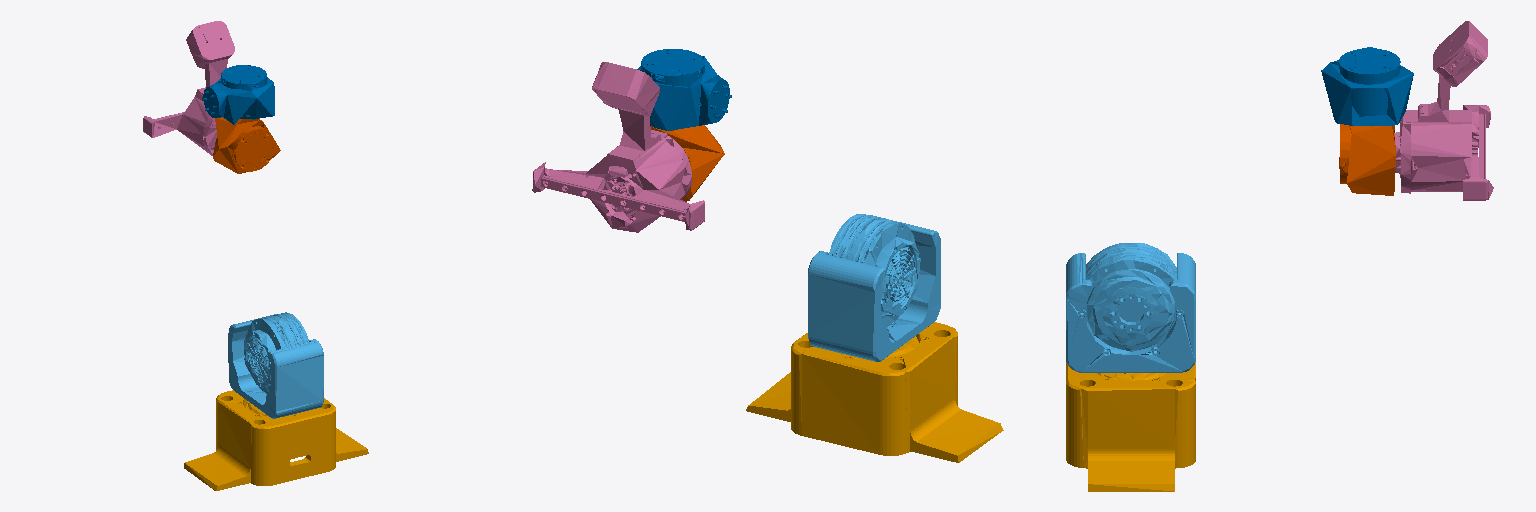
URDF robot description (s1_left):
<?xml version='1.0' encoding='utf-8'?>
<robot name="s1_left">
  <material name="pla_cf_black">
    <color rgba="0.08 0.083 0.09 1" />
  </material>
  <material name="base_graphite">
    <color rgba="0.12 0.13 0.142 1" />
  </material>
  <material name="link1_cool_graphite">
    <color rgba="0.17 0.19 0.215 1" />
  </material>
  <material name="link2_blue_graphite">
    <color rgba="0.125 0.165 0.2 1" />
  </material>
  <material name="link3_warm_graphite">
    <color rgba="0.2 0.17 0.125 1" />
  </material>
  <material name="link4_green_graphite">
    <color rgba="0.145 0.19 0.13 1" />
  </material>
  <material name="link5_violet_graphite">
    <color rgba="0.185 0.145 0.205 1" />
  </material>
  <material name="gripper_graphite">
    <color rgba="0.15 0.155 0.17 1" />
  </material>
  <material name="finger_carrier_graphite">
    <color rgba="0.12 0.13 0.145 1" />
  </material>
  <material name="motor_dark_gray">
    <color rgba="0.285 0.29 0.305 1" />
  </material>
  <material name="black_oxide">
    <color rgba="0.045 0.045 0.05 1" />
  </material>
  <material name="silver_metal">
    <color rgba="0.83 0.83 0.815 1" />
  </material>
  <material name="camera_black">
    <color rgba="0.07 0.075 0.085 1" />
  </material>
  <material name="rubber_black">
    <color rgba="0.055 0.055 0.06 1" />
  </material>
  <material name="soft_finger_orange">
    <color rgba="1 0.33 0.02 1" />
  </material>
  <link name="base_link">
    <inertial>
      <origin xyz="0 0 -0.00276303415" rpy="0 0 0" />
      <mass value="1.29583519" />
      <inertia ixx="0.0017107724" ixy="0" ixz="0" iyy="0.00274261726" iyz="0" izz="0.00340175483" />
    </inertial>
    <visual>
      <origin xyz="0 0 0" rpy="0 0 0" />
      <geometry>
        <mesh filename="../meshes/visual/base_link.obj" scale="1 -1 1" />
      </geometry>
    </visual>
    <collision>
      <origin xyz="0 0 -0.01" rpy="0 0 0" />
      <geometry>
        <box size="0.22 0.12 0.0817" />
      </geometry>
    </collision>
  </link>
  <link name="link1">
    <inertial>
      <origin xyz="0.00327466065 3.54095634e-05 0.0909114977" rpy="0 0 0" />
      <mass value="1.12836581" />
      <inertia ixx="0.00195177555" ixy="-9.87899467e-07" ixz="-1.26151138e-05" iyy="0.0013617154" iyz="1.39972709e-06" izz="0.0013391883" />
    </inertial>
    <visual>
      <origin xyz="0 0 0" rpy="0 0 0" />
      <geometry>
        <mesh filename="../meshes/visual/link1.obj" scale="1 -1 1" />
      </geometry>
    </visual>
    <collision>
      <origin xyz="0 0 0.0841" rpy="0 0 0" />
      <geometry>
        <box size="0.07 0.12 0.1195" />
      </geometry>
    </collision>
  </link>
  <link name="link2">
    <inertial>
      <origin xyz="0.0438748016 2.88223248e-05 0.171998187" rpy="0 0 0" />
      <mass value="0.914321365" />
      <inertia ixx="0.00890792612" ixy="-1.31110743e-07" ixz="0.000193746912" iyy="0.00872933125" iyz="1.35111725e-06" izz="0.000568555708" />
    </inertial>
    <visual>
      <origin xyz="0 0 0" rpy="0 0 0" />
      <geometry>
        <mesh filename="../meshes/visual/link2.obj" scale="1 -1 1" />
      </geometry>
    </visual>
    <collision>
      <origin xyz="0.041475 0 0.125" rpy="0 0 0" />
      <geometry>
        <box size="0.06075 0.08 0.33" />
      </geometry>
    </collision>
  </link>
  <link name="link3">
    <inertial>
      <origin xyz="-0.0417290979 0.156009659 3.38134269e-05" rpy="0 0 0" />
      <mass value="0.839316672" />
      <inertia ixx="0.00633206114" ixy="-0.000145532134" ixz="2.13444502e-07" iyy="0.000531686993" iyz="2.05633337e-06" izz="0.00618267806" />
    </inertial>
    <visual>
      <origin xyz="0 0 0" rpy="0 0 0" />
      <geometry>
        <mesh filename="../meshes/visual/link3.obj" scale="1 -1 1" />
      </geometry>
    </visual>
    <collision>
      <origin xyz="-0.039875 0.10985 0" rpy="0 0 0" />
      <geometry>
        <box size="0.06075 0.2997 0.08" />
      </geometry>
    </collision>
  </link>
  <link name="link4">
    <inertial>
      <origin xyz="0.0732396578 -2.37324905e-07 0.0039188933" rpy="0 0 0" />
      <mass value="0.368651315" />
      <inertia ixx="0.000172235544" ixy="-8.72272023e-11" ixz="-2.56704281e-06" iyy="0.000195507711" iyz="1.62566292e-09" izz="0.000230267156" />
    </inertial>
    <visual>
      <origin xyz="0 0 0" rpy="0 0 0" />
      <geometry>
        <mesh filename="../meshes/visual/link4.obj" scale="1 -1 1" />
      </geometry>
    </visual>
    <collision>
      <origin xyz="0.06565 0 0.0022" rpy="0 0 0" />
      <geometry>
        <box size="0.0852 0.066 0.0509" />
      </geometry>
    </collision>
  </link>
  <link name="link5">
    <inertial>
      <origin xyz="2.37324897e-07 -0.00400027101 -0.0681658426" rpy="0 0 0" />
      <mass value="0.368651315" />
      <inertia ixx="0.00019584039" ixy="1.62729219e-09" ixz="4.23583008e-10" iyy="0.00023051686" iyz="-3.83217167e-06" izz="0.000172318521" />
    </inertial>
    <visual>
      <origin xyz="0 0 0" rpy="0 0 0" />
      <geometry>
        <mesh filename="../meshes/visual/link5.obj" scale="1 -1 1" />
      </geometry>
    </visual>
    <collision>
      <origin xyz="0 -0.00225 -0.0604" rpy="0 0 0" />
      <geometry>
        <box size="0.066 0.051 0.0852" />
      </geometry>
    </collision>
  </link>
  <link name="gripper_base_link">
    <inertial>
      <origin xyz="7.05002409e-05 0.073624413 0.0133070668" rpy="0 0 0" />
      <mass value="0.566289225" />
      <inertia ixx="0.00105813362" ixy="7.20294607e-07" ixz="-1.62884186e-07" iyy="0.00120353592" iyz="-0.000112752829" izz="0.000702651412" />
    </inertial>
    <visual>
      <origin xyz="0 0 0" rpy="0 0 0" />
      <geometry>
        <mesh filename="../meshes/visual/gripper_base_link.obj" scale="1 -1 1" />
      </geometry>
    </visual>
    <collision>
      <origin xyz="0 0.069 0.044550084" rpy="0 0 0" />
      <geometry>
        <box size="0.166 0.092 0.164100168" />
      </geometry>
    </collision>
  </link>
  <link name="left_finger_link">
    <inertial>
      <origin xyz="-0.0589163757 0.138908274 0.000518355848" rpy="0 0 0" />
      <mass value="0.0643791022" />
      <inertia ixx="9.84052109e-05" ixy="3.38980672e-07" ixz="-7.16458775e-07" iyy="1.38351336e-05" iyz="1.05776011e-06" izz="9.81390236e-05" />
    </inertial>
    <visual>
      <origin xyz="0 0 0" rpy="0 0 0" />
      <geometry>
        <mesh filename="../meshes/visual/left_finger_link.obj" scale="1 -1 1" />
      </geometry>
    </visual>
    <collision>
      <origin xyz="-0.0349500659 0.16755 5e-05" rpy="0 0 0" />
      <geometry>
        <box size="0.0826656621 0.1351 0.052" />
      </geometry>
    </collision>
  </link>
  <link name="right_finger_link">
    <inertial>
      <origin xyz="0.0589163778 0.138908274 -0.000168355851" rpy="0 0 0" />
      <mass value="0.0643791022" />
      <inertia ixx="9.84052109e-05" ixy="-3.38980672e-07" ixz="-7.16458775e-07" iyy="1.38351336e-05" iyz="-1.05776012e-06" izz="9.81390236e-05" />
    </inertial>
    <visual>
      <origin xyz="0 0 0" rpy="0 0 0" />
      <geometry>
        <mesh filename="../meshes/visual/right_finger_link.obj" scale="1 -1 1" />
      </geometry>
    </visual>
    <collision>
      <origin xyz="0.034950068 0.16755 0.0003" rpy="0 0 0" />
      <geometry>
        <box size="0.0826656621 0.1351 0.052" />
      </geometry>
    </collision>
  </link>
  <link name="camera_link" />
  <joint name="camera_fixed" type="fixed">
    <parent link="gripper_base_link" />
    <child link="camera_link" />
    <origin xyz="8.24998808e-05 0.0904390307 0.0987713467" rpy="0 0 0" />
  </joint>
  <link name="tool0" />
  <joint name="tool0_fixed" type="fixed">
    <parent link="gripper_base_link" />
    <child link="tool0" />
    <origin xyz="-4.37776271e-05 0.151981036 1.01722606e-05" rpy="0 0 0" />
  </joint>
  <joint name="base" type="revolute">
    <parent link="base_link" />
    <child link="link1" />
    <origin xyz="0 0 0" rpy="0 0 0" />
    <axis xyz="0 0 -1" />
    <limit lower="-1.59" upper="1.57" effort="35" velocity="6.6" />
  </joint>
  <joint name="link1" type="revolute">
    <parent link="link1" />
    <child link="link2" />
    <origin xyz="0.00385 0 0.09485" rpy="0 0 0" />
    <axis xyz="-1 0 0" />
    <limit lower="-1.98" upper="1.97" effort="35" velocity="6.6" />
  </joint>
  <joint name="link2" type="revolute">
    <parent link="link2" />
    <child link="link3" />
    <origin xyz="0.0436 0 0.25" rpy="0 0 0" />
    <axis xyz="-1 0 0" />
    <limit lower="-1.18" upper="3.96" effort="8" velocity="5.5" />
  </joint>
  <joint name="link3" type="revolute">
    <parent link="link3" />
    <child link="link4" />
    <origin xyz="-0.042 0.2197 0" rpy="0 0 0" />
    <axis xyz="-1 0 0" />
    <limit lower="-2.12" upper="1.95" effort="8" velocity="5.5" />
  </joint>
  <joint name="link4" type="revolute">
    <parent link="link4" />
    <child link="link5" />
    <origin xyz="0.07525 0 0.00465" rpy="0 0 0" />
    <axis xyz="0 0 -1" />
    <limit lower="-0.65" upper="0.75" effort="4" velocity="10" />
  </joint>
  <joint name="link5" type="revolute">
    <parent link="link5" />
    <child link="gripper_base_link" />
    <origin xyz="0 -0.00475 -0.07" rpy="0 0 0" />
    <axis xyz="0 1 0" />
    <limit lower="-3.17" upper="3.08" effort="4" velocity="10" />
  </joint>
  <joint name="gripper" type="prismatic">
    <parent link="gripper_base_link" />
    <child link="left_finger_link" />
    <origin xyz="0 0 0" rpy="0 0 0" />
    <axis xyz="-1 0 0" />
    <limit lower="-0.045" upper="0" effort="80" velocity="0.2" />
  </joint>
  <joint name="gripper_right_mimic" type="prismatic">
    <parent link="gripper_base_link" />
    <child link="right_finger_link" />
    <origin xyz="0 0 0" rpy="0 0 0" />
    <axis xyz="1 0 0" />
    <limit lower="-0.045" upper="0" effort="80" velocity="0.2" />
    <mimic joint="gripper" multiplier="1" offset="0" />
  </joint>
</robot>

--- Facts derived from the render (not from the file) ---
3 views of the same robot in one strip: view 1: azimuth 30°, elevation 25°; view 2: azimuth 150°, elevation 25°; view 3: azimuth 270°, elevation 25° (orthographic).
Model s1_left with 11 links and 10 joints (6 revolute, 2 prismatic, 2 fixed), rooted at base_link, posed every joint at zero.
Visible links, largest first — view 1: base_link, link1, gripper_base_link, link4, link5; view 2: base_link, link1, gripper_base_link, link4, link5; view 3: link1, base_link, gripper_base_link, link4, link5.
Boxes of the visible links, left/top/right/bottom form: base_link: left=184, top=390, right=368, bottom=490; link1: left=228, top=312, right=323, bottom=418; gripper_base_link: left=143, top=21, right=234, bottom=155; link4: left=202, top=65, right=274, bottom=124; link5: left=213, top=117, right=280, bottom=173; base_link: left=746, top=322, right=1003, bottom=462; link1: left=808, top=214, right=940, bottom=361; gripper_base_link: left=532, top=62, right=704, bottom=232; link4: left=637, top=49, right=731, bottom=130; link5: left=650, top=125, right=724, bottom=201; link1: left=1066, top=243, right=1195, bottom=372; base_link: left=1066, top=362, right=1195, bottom=491; gripper_base_link: left=1394, top=21, right=1493, bottom=200; link4: left=1321, top=47, right=1413, bottom=125; link5: left=1339, top=124, right=1396, bottom=195.
Size in the robot's own frame: 0.2737 by 0.3941 by 0.457 metres.
5 mesh visuals loaded from 9 distinct referenced files (5 OBJ); not drawn: 4 (reference not matched to a file when rendering).
